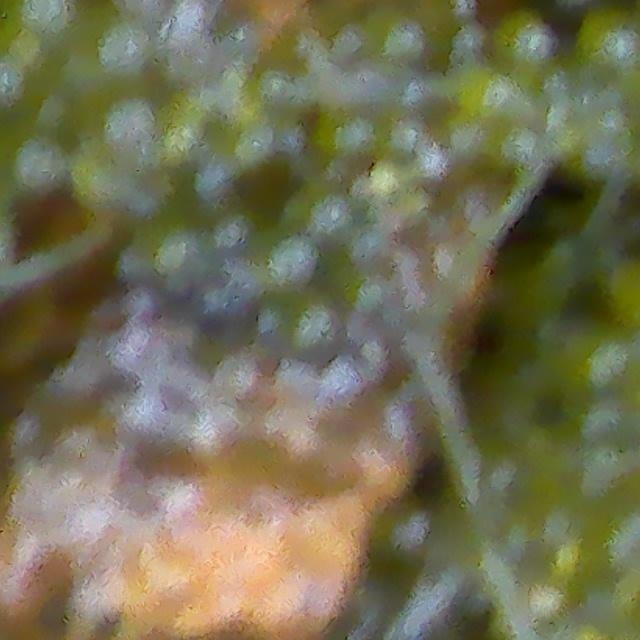SeaGrape: (496, 13, 552, 68)
